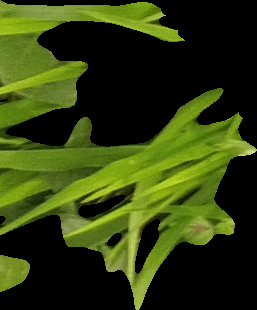grass: (2, 1, 255, 309)
